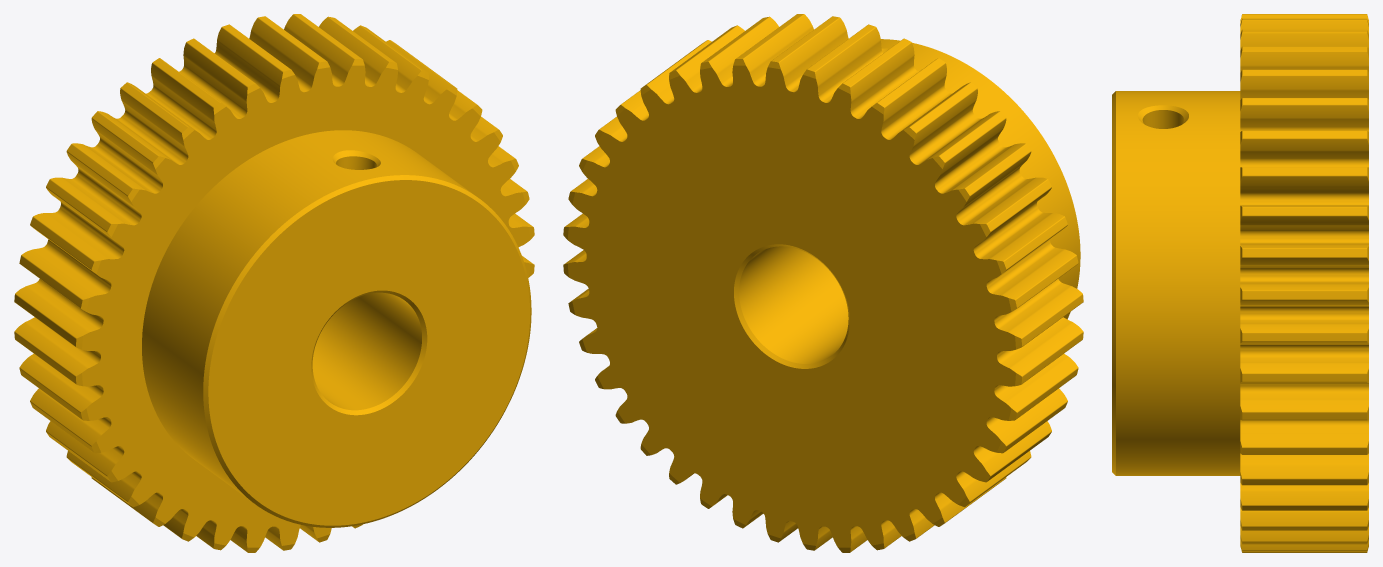
The model's file is factory_gear_medium_space_5e-4.obj.
The picture shows the model from 3 angles, left to right: view 1: azimuth 30°, elevation 25°; view 2: azimuth 150°, elevation 25°; view 3: azimuth 270°, elevation 25°; orthographic projection.
Parts seen in each view (by area): view 1: mesh8, mesh562, mesh3, mesh12, mesh0, mesh2, mesh1, mesh11, mesh310, mesh486, mesh303, mesh493 (+19 smaller); view 2: mesh15, mesh12, mesh3, mesh11, mesh310, mesh486, mesh303, mesh493, mesh296, mesh500, mesh565, mesh507 (+15 smaller); view 3: mesh3, mesh0, mesh394, mesh566, mesh297, mesh387, mesh304, mesh311, mesh380, mesh401, mesh318, mesh373 (+65 smaller).
Part boxes in pixels (x1=…): mesh8: x1=208, y1=180, x2=530, y2=525; mesh562: x1=82, y1=65, x2=530, y2=547; mesh3: x1=142, y1=130, x2=475, y2=377; mesh12: x1=312, y1=297, x2=421, y2=410; mesh0: x1=142, y1=333, x2=250, y2=500; mesh2: x1=203, y1=175, x2=531, y2=378; mesh1: x1=203, y1=325, x2=530, y2=527; mesh11: x1=359, y1=292, x2=421, y2=342; mesh310: x1=319, y1=17, x2=388, y2=72; mesh486: x1=30, y1=390, x2=100, y2=445; mesh303: x1=286, y1=15, x2=354, y2=71; mesh493: x1=20, y1=357, x2=90, y2=411; mesh15: x1=567, y1=65, x2=1015, y2=547; mesh12: x1=739, y1=250, x2=848, y2=363; mesh3: x1=881, y1=39, x2=1079, y2=250; mesh11: x1=739, y1=246, x2=801, y2=295; mesh310: x1=709, y1=17, x2=778, y2=72; mesh486: x1=997, y1=390, x2=1067, y2=445; mesh303: x1=743, y1=15, x2=811, y2=71; mesh493: x1=1007, y1=357, x2=1077, y2=411; mesh296: x1=779, y1=18, x2=846, y2=75; mesh500: x1=1011, y1=323, x2=1082, y2=375; mesh565: x1=815, y1=28, x2=880, y2=84; mesh507: x1=1009, y1=286, x2=1082, y2=338; mesh3: x1=1116, y1=91, x2=1240, y2=378; mesh0: x1=1116, y1=378, x2=1240, y2=475; mesh394: x1=1240, y1=512, x2=1368, y2=525; mesh566: x1=1240, y1=33, x2=1368, y2=46; mesh297: x1=1240, y1=52, x2=1368, y2=64; mesh387: x1=1240, y1=492, x2=1368, y2=504; mesh304: x1=1240, y1=76, x2=1368, y2=88; mesh311: x1=1240, y1=105, x2=1368, y2=117; mesh380: x1=1240, y1=466, x2=1368, y2=478; mesh401: x1=1240, y1=528, x2=1368, y2=541; mesh318: x1=1240, y1=139, x2=1368, y2=150; mesh373: x1=1240, y1=435, x2=1368, y2=446.
Size of the model in its own units: 0.0419 by 0.0419 by 0.02.
